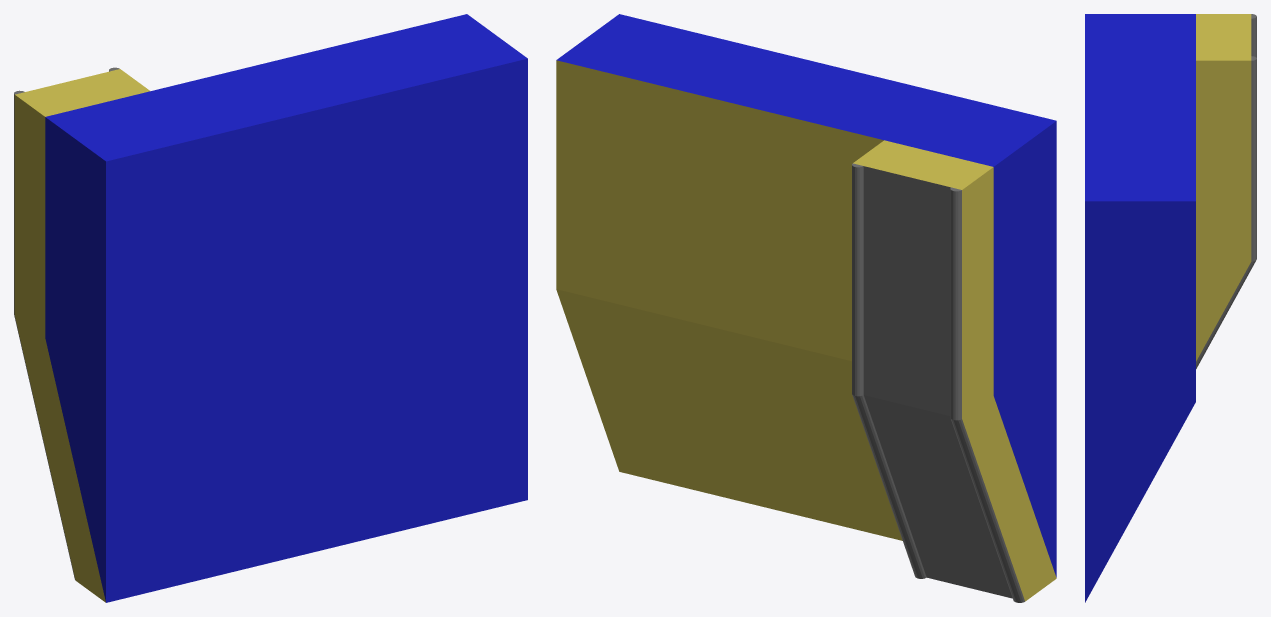
The model's file is Box (Half) W Box-Rail Right.fbx.
The picture shows the model from 3 angles, left to right: view 1: azimuth 30°, elevation 25°; view 2: azimuth 150°, elevation 25°; view 3: azimuth 270°, elevation 25°; orthographic projection. The views are drawn at different scales.
Parts seen in each view (by area): view 1: Box (Half) W Box-Rail Right; view 2: Box (Half) W Box-Rail Right; view 3: Box (Half) W Box-Rail Right.
Part boxes in pixels (box(x1,y1,x2,y2)): Box (Half) W Box-Rail Right: box(14, 14, 527, 602); Box (Half) W Box-Rail Right: box(556, 14, 1056, 602); Box (Half) W Box-Rail Right: box(1085, 14, 1256, 602).
Size of the model in its own units: 800 by 800 by 310.
